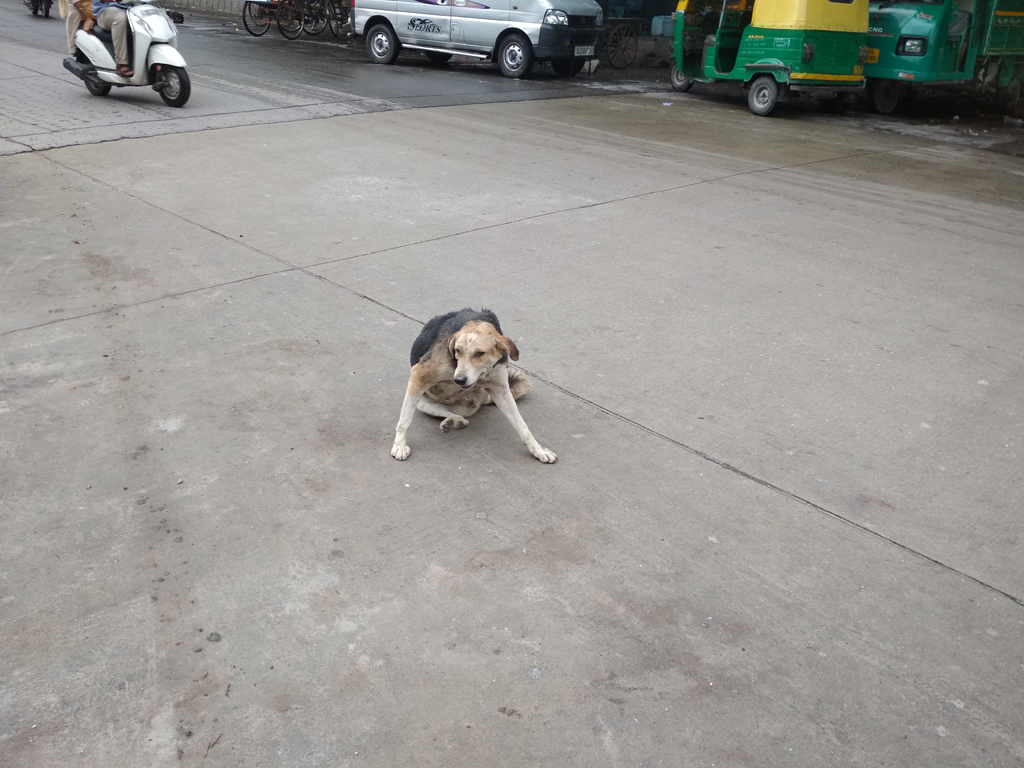dog: (385, 309, 559, 462)
